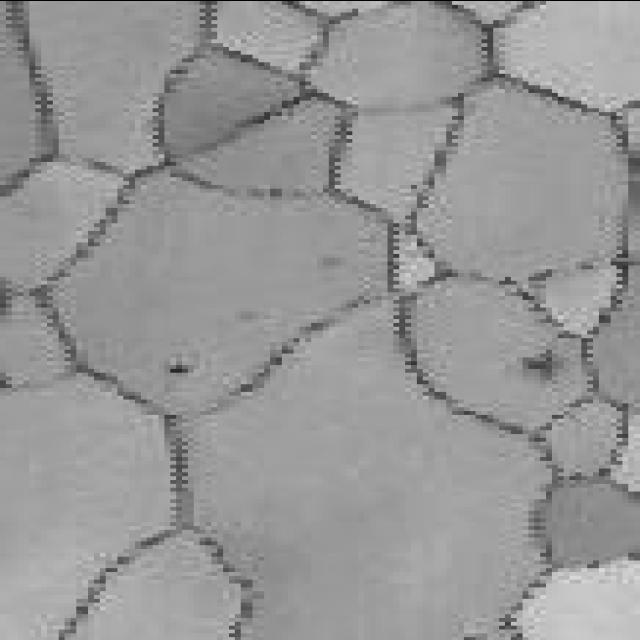good_void: (522, 345, 557, 379), (165, 358, 194, 377)
